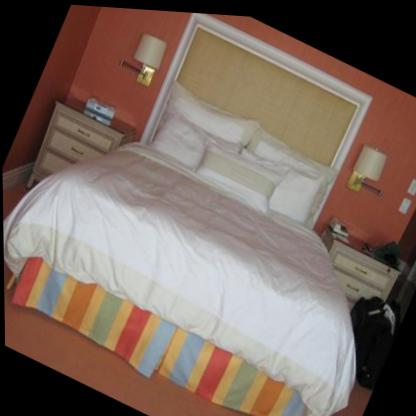Bed: (1, 46, 410, 416)
